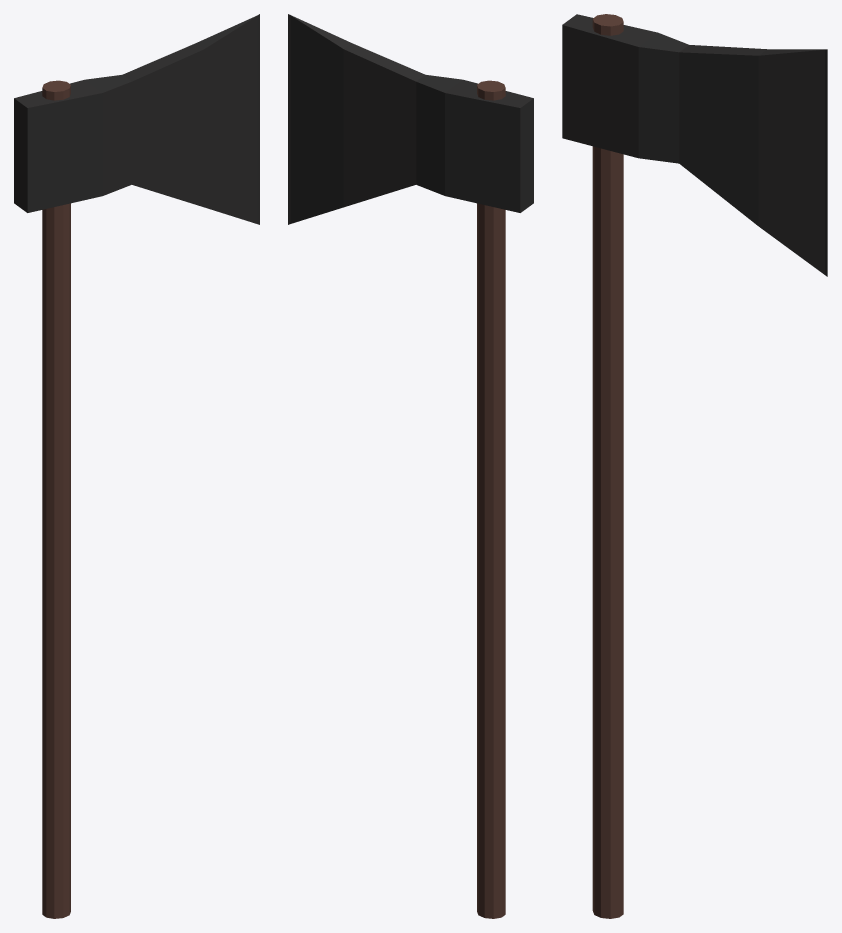
File: Machado1.fbx
3 renders of one model, left to right at view 1: azimuth 30°, elevation 25°; view 2: azimuth 150°, elevation 25°; view 3: azimuth 330°, elevation 25°, orthographic. The views are drawn at different scales.
Parts seen in each view (by area): view 1: Cubo, Cilindro; view 2: Cubo, Cilindro; view 3: Cubo, Cilindro.
Boxes of the visible parts, box(x1,y1,x2,y2) form: Cubo: box(14, 14, 259, 224); Cilindro: box(42, 80, 70, 918); Cubo: box(288, 14, 533, 224); Cilindro: box(477, 80, 505, 918); Cubo: box(562, 14, 827, 276); Cilindro: box(592, 14, 623, 918).
Bounding box in the file's own units: 77.28 × 262 × 10.18.
